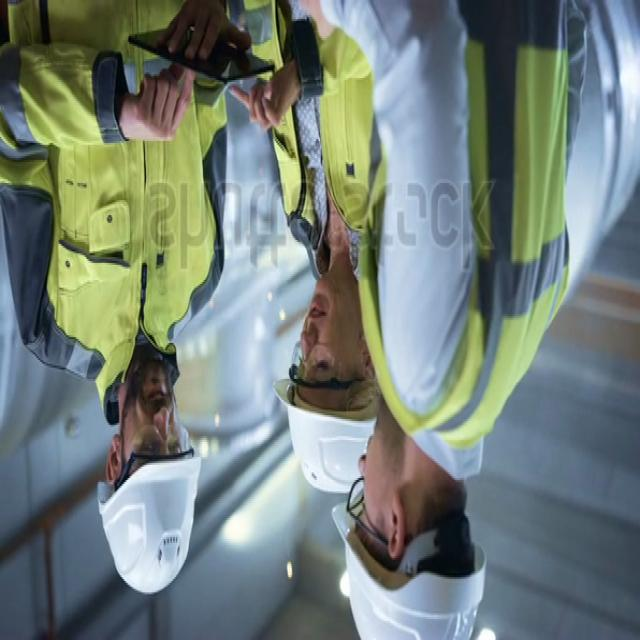Glasses: (344, 475, 393, 553), (120, 422, 192, 473), (282, 346, 350, 388)
Helmet: (338, 516, 497, 638), (93, 454, 207, 602), (268, 374, 372, 499)
Vest: (357, 0, 570, 442), (9, 0, 227, 405), (255, 0, 367, 253)
